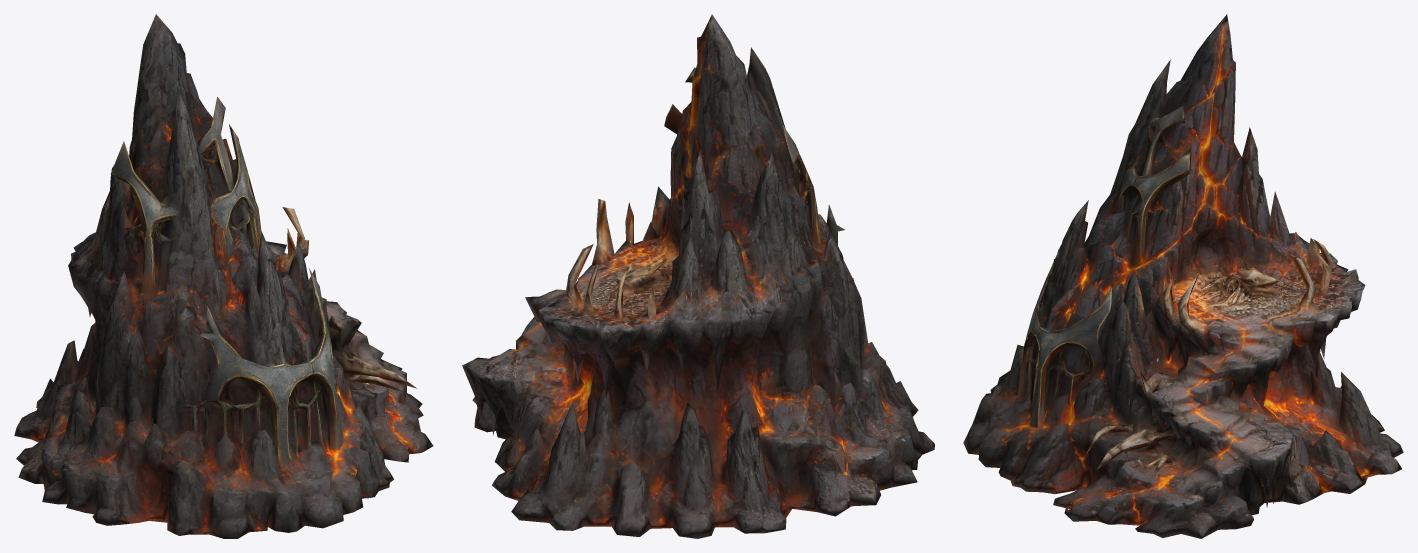
File: env_ro_spire.glb
3 views of the same model, side by side, from view 1: azimuth 30°, elevation 25°; view 2: azimuth 150°, elevation 25°; view 3: azimuth 270°, elevation 25° (orthographic). The views are drawn at different scales.
Parts seen in each view (by area): view 1: tripo_node_fe0d4ab2-7376-4451-b8d8-d4cd35aeba92; view 2: tripo_node_fe0d4ab2-7376-4451-b8d8-d4cd35aeba92; view 3: tripo_node_fe0d4ab2-7376-4451-b8d8-d4cd35aeba92.
Part boxes in pixels (x1=…): tripo_node_fe0d4ab2-7376-4451-b8d8-d4cd35aeba92: x1=14, y1=14, x2=433, y2=538; tripo_node_fe0d4ab2-7376-4451-b8d8-d4cd35aeba92: x1=462, y1=14, x2=934, y2=538; tripo_node_fe0d4ab2-7376-4451-b8d8-d4cd35aeba92: x1=963, y1=14, x2=1403, y2=538.
Bounding box in the file's own units: 0.9547 × 1 × 0.9654.
Materials: 1 (1 with a texture image).
